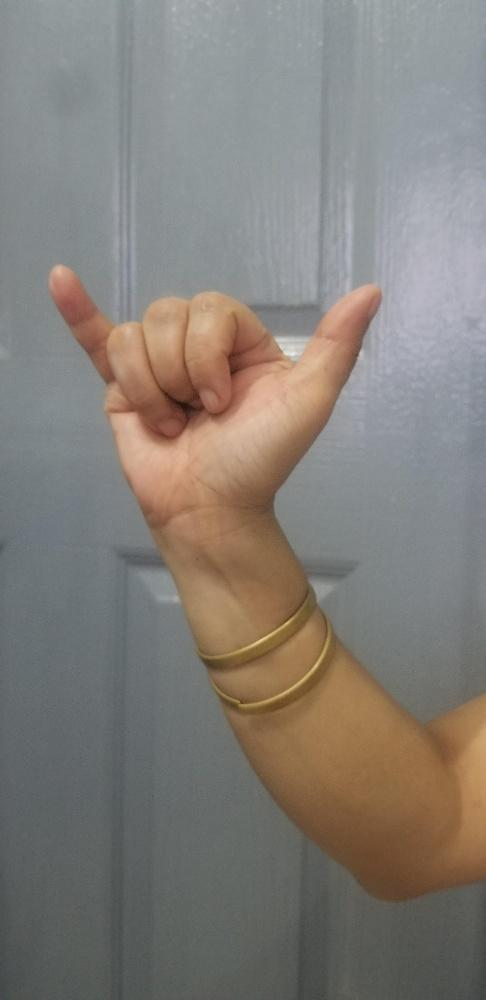y: (44, 260, 383, 504)
